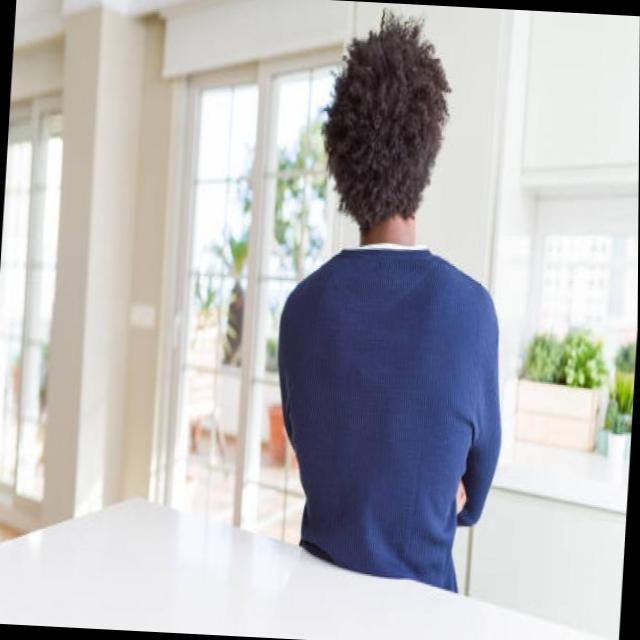no helmet: (307, 27, 463, 260)
